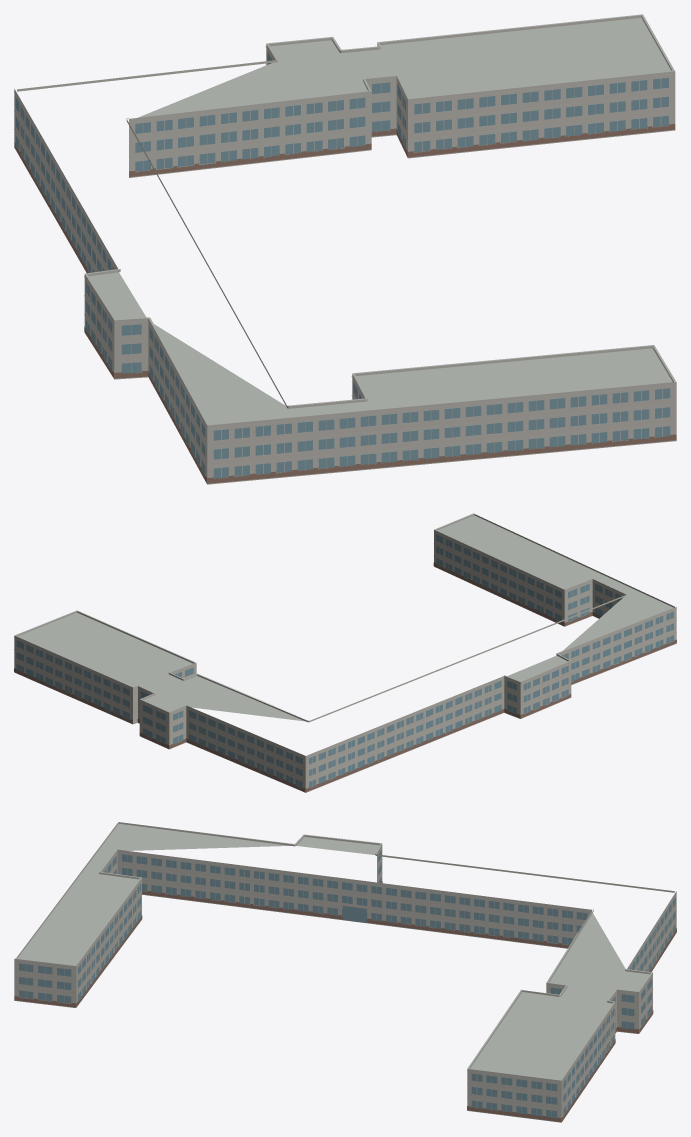
The model's file is public-65d8ade6-50aa-459f-9503-312959522b44.glb.
The picture shows the model from 3 angles, top to bottom: view 1: azimuth 30°, elevation 25°; view 2: azimuth 150°, elevation 25°; view 3: azimuth 270°, elevation 25°; orthographic projection. The views are drawn at different scales.
Parts seen in each view (by area): view 1: public-65d8ade6-50aa-459f-9503-312959522b44; view 2: public-65d8ade6-50aa-459f-9503-312959522b44; view 3: public-65d8ade6-50aa-459f-9503-312959522b44.
Part boxes in pixels (left/top/right/bottom): public-65d8ade6-50aa-459f-9503-312959522b44: left=14, top=14, right=676, bottom=484; public-65d8ade6-50aa-459f-9503-312959522b44: left=14, top=513, right=676, bottom=792; public-65d8ade6-50aa-459f-9503-312959522b44: left=14, top=822, right=676, bottom=1122.
Bounding box in the file's own units: 121 × 9.15 × 131.
